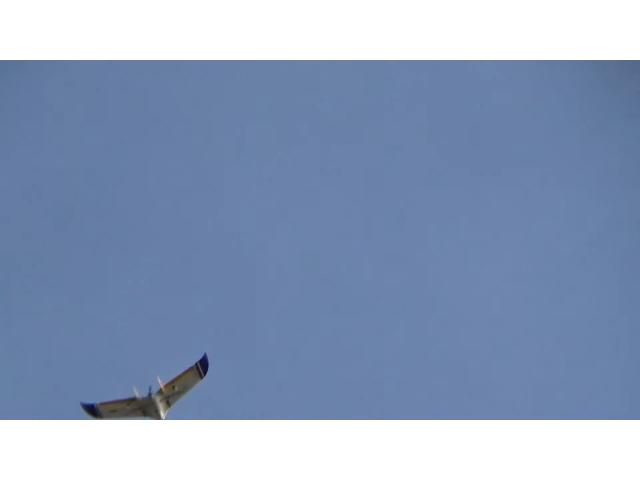Anti-Drone: (80, 352, 208, 418)
